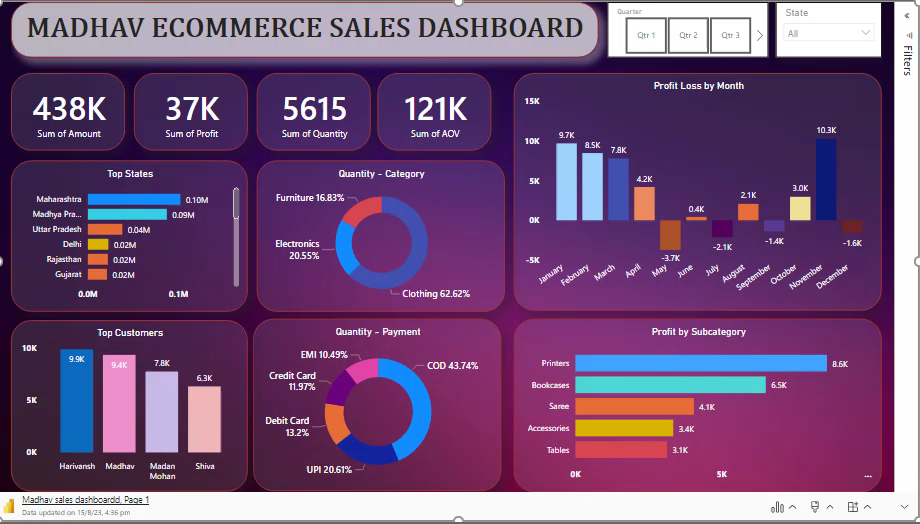

Layout of this report page (visuals, bound fields, positions):
{"tool":"powerbi","page":{"name":"Page 1","canvas":[1280,720],"ordinal":0},"visuals":[{"type":"textbox","box":[0,0,863.5,81.3],"z":0},{"type":"columnChart","title":"Profit  Loss by Month","fields":{"Y":["Details.Profit"],"Category":["Orders.Order Date.Variation.Date Hierarchy.Month"]},"box":[738.7,104.8,541.3,349.9],"z":1000},{"type":"barChart","title":"Profit by Subcategory","fields":{"Category":["Details.Sub-Category"],"Y":["Details.Profit"]},"box":[738.7,465.7,541.3,254.8],"z":2000},{"type":"donutChart","title":"Quantity - Category","fields":{"Category":["Details.Category"],"Y":["Details.Quantity"]},"box":[360.8,232.8,364.5,221.9],"z":3000},{"type":"donutChart","title":"Quantity - Payment","fields":{"Category":["Details.PaymentMode"],"Y":["Details.Quantity"]},"box":[356,465.7,364.5,253.6],"z":4000},{"type":"card","fields":{"Values":["Details.Amount"]},"box":[0,104.8,167,114.6],"z":5000},{"type":"card","fields":{"Values":["Details.Quantity"]},"box":[360.8,104.8,167,114.6],"z":6000},{"type":"card","fields":{"Values":["Details.Profit"]},"box":[180.4,104.8,167,114.6],"z":7000},{"type":"card","fields":{"Values":["Details.AOV"]},"box":[538.8,104.8,168.2,114.6],"z":8000},{"type":"barChart","title":"Top States","fields":{"Category":["Orders.State"],"Y":["Details.Amount"]},"box":[0,232.8,347.4,221.9],"z":9000},{"type":"columnChart","title":"Top Customers","fields":{"Category":["Orders.CustomerName"],"Y":["Details.Amount"]},"box":[0,466.9,347.4,252.3],"z":10000},{"type":"slicer","fields":{"Values":["Orders.Order Date.Variation.Date Hierarchy.Quarter"]},"box":[876.6,0,236.6,81.3],"z":11000},{"type":"slicer","fields":{"Values":["Orders.State"]},"box":[1123.3,0,156.7,81.3],"z":12000}]}

Visuals, with their boxes on the page's 1280x720 design canvas (x1, y1, x2, y2). These are canvas units, not pixel positions in the 920x524 screenshot, which may show the page scaled, cropped or inside an application window:
textbox: box=[0, 0, 864, 81]
"Profit  Loss by Month" columnChart: box=[739, 105, 1280, 455]
"Profit by Subcategory" barChart: box=[739, 466, 1280, 720]
"Quantity - Category" donutChart: box=[361, 233, 725, 455]
"Quantity - Payment" donutChart: box=[356, 466, 720, 719]
card - Details.Amount: box=[0, 105, 167, 219]
card - Details.Quantity: box=[361, 105, 528, 219]
card - Details.Profit: box=[180, 105, 347, 219]
card - Details.AOV: box=[539, 105, 707, 219]
"Top States" barChart: box=[0, 233, 347, 455]
"Top Customers" columnChart: box=[0, 467, 347, 719]
slicer - Orders.Order Date.Variation.Date Hierarchy.Quarter: box=[877, 0, 1113, 81]
slicer - Orders.State: box=[1123, 0, 1280, 81]
